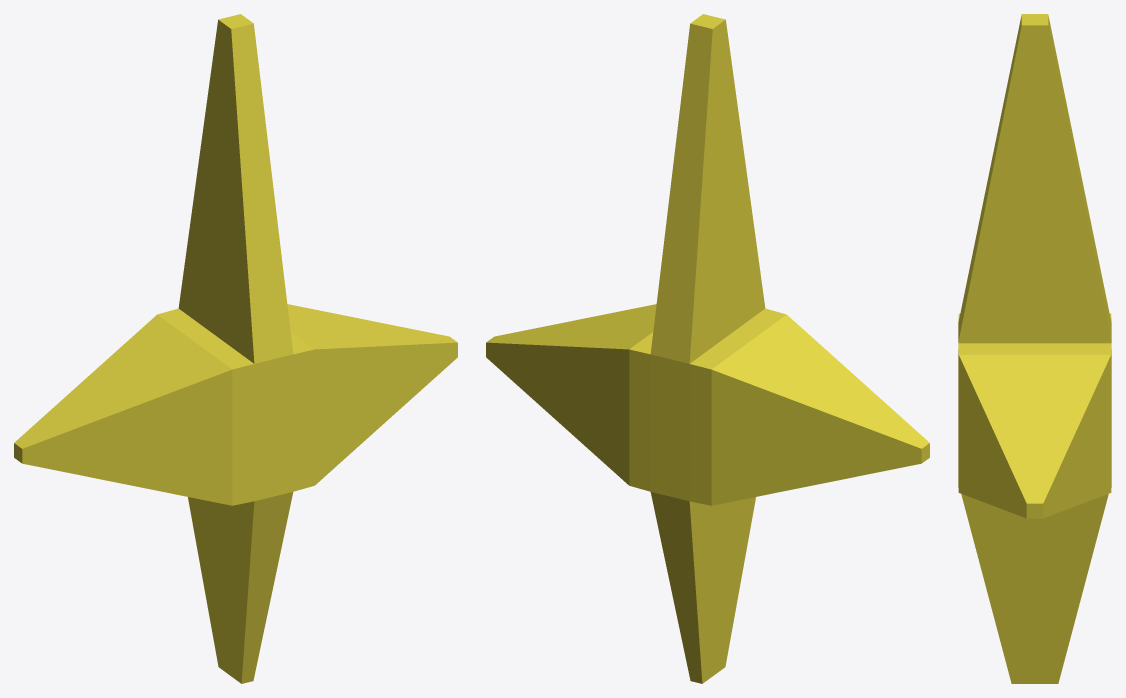
Rendered from sparkle.glb.
3 views of the same model, side by side, from view 1: azimuth 30°, elevation 25°; view 2: azimuth 150°, elevation 25°; view 3: azimuth 270°, elevation 25° (orthographic).
Visible parts, largest first — view 1: Cube; view 2: Cube; view 3: Cube.
Part boxes in pixels (<box>): Cube: <box>14,14,457,683</box>; Cube: <box>486,14,929,683</box>; Cube: <box>958,14,1111,683</box>.
Size of the model in its own units: 0.1474 by 0.2109 by 0.0444.
